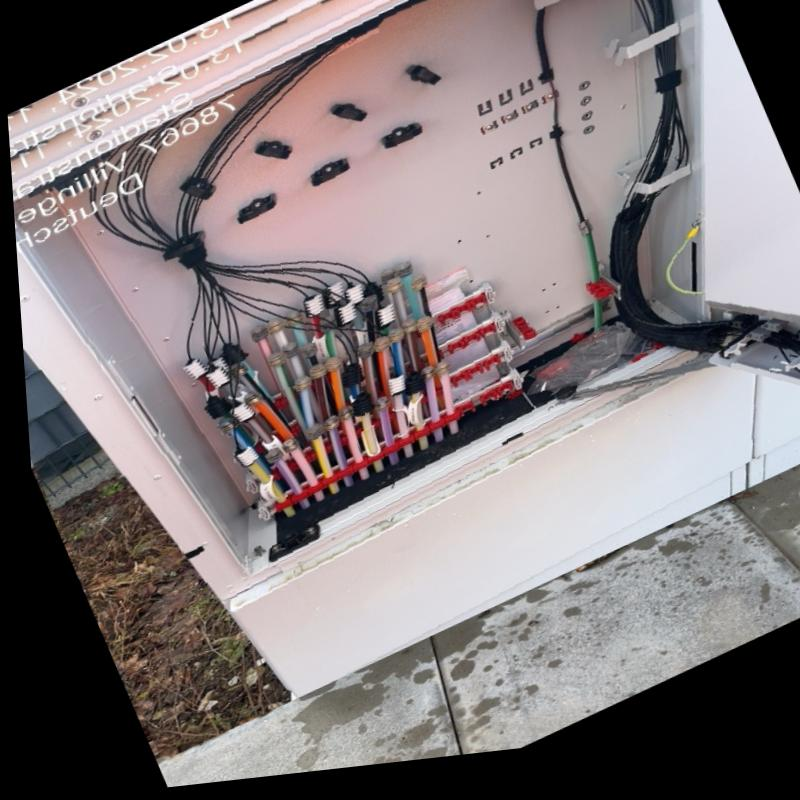NT-Gehause: (8, 0, 800, 708)
